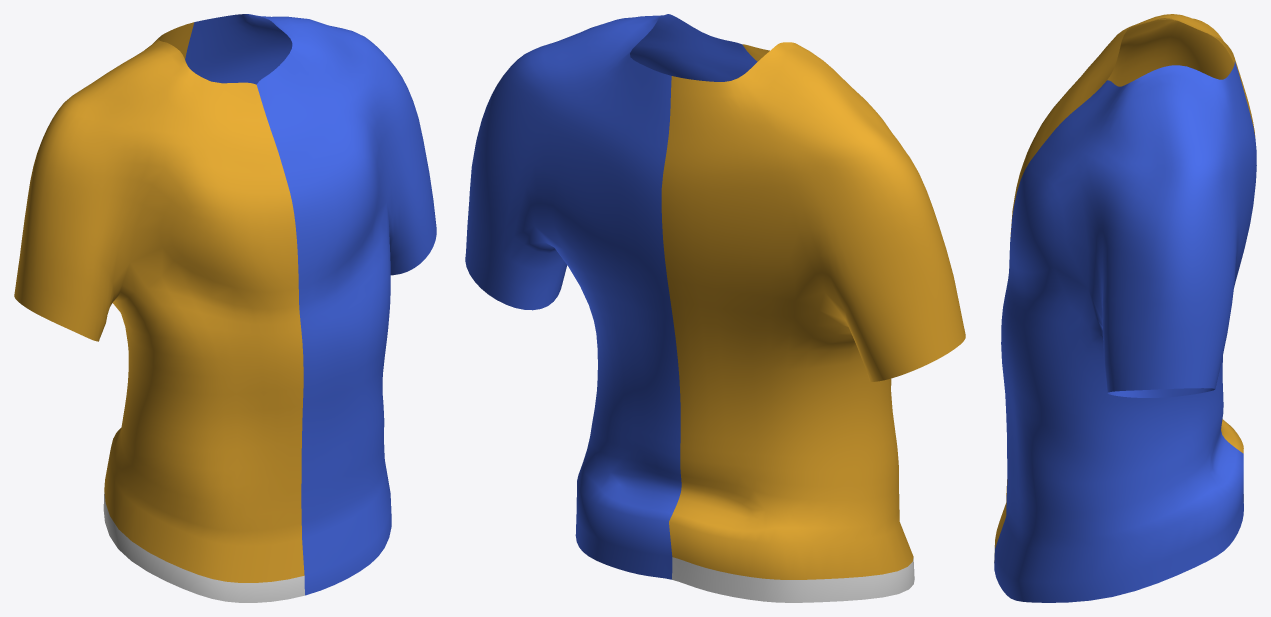
3 renders of one model, left to right at view 1: azimuth 30°, elevation 25°; view 2: azimuth 150°, elevation 25°; view 3: azimuth 270°, elevation 25°, orthographic. The views are drawn at different scales.
Parts seen in each view (by area): view 1: tshirt. second; view 2: tshirt. second; view 3: tshirt. second.
Boxes of the visible parts, left/top/right/bottom form: tshirt. second: left=14, top=14, right=436, bottom=602; tshirt. second: left=465, top=14, right=965, bottom=602; tshirt. second: left=994, top=14, right=1256, bottom=602.
Bounding box in the file's own units: 0.4729 × 0.5582 × 0.252.
